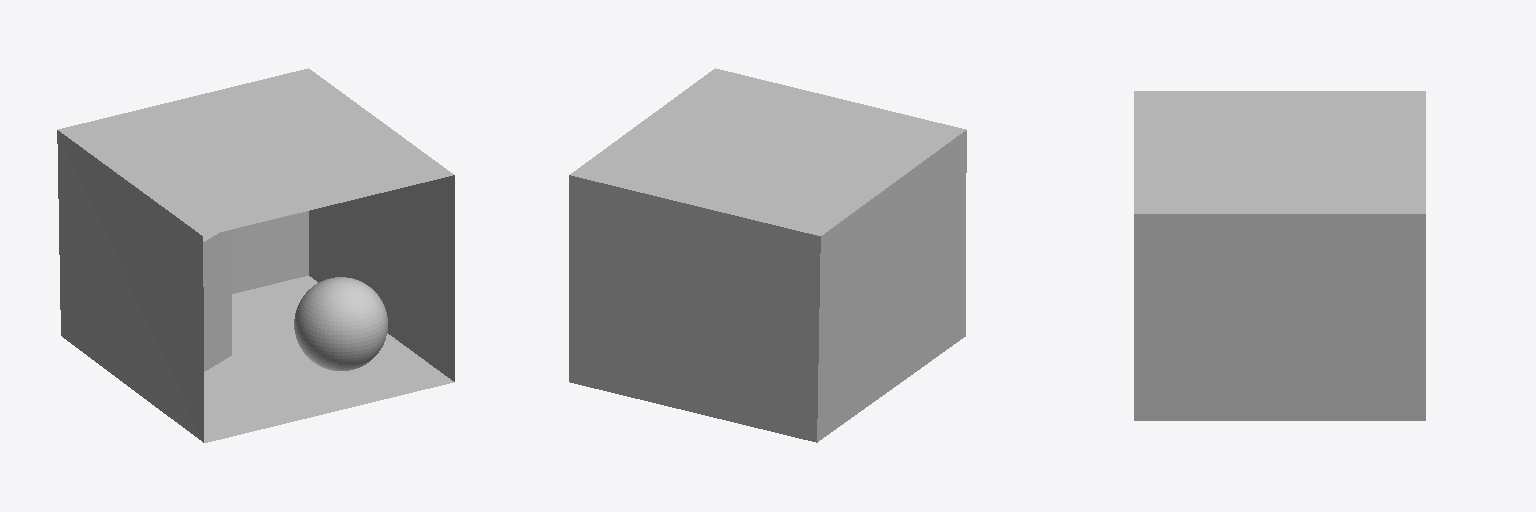
The model's file is cbox_medium.obj.
3 views of the same model, side by side, from view 1: azimuth 30°, elevation 25°; view 2: azimuth 150°, elevation 25°; view 3: azimuth 270°, elevation 25° (orthographic).
Visible parts, largest first — view 1: ceiling, leftWall, rightWall, floor, rightSphere, backWall, leftBox; view 2: backWall, ceiling, leftWall; view 3: rightWall, ceiling.
Part boxes in pixels (bbox=[...]): ceiling: bbox=[58, 68, 453, 235]; leftWall: bbox=[57, 130, 203, 442]; rightWall: bbox=[309, 175, 454, 381]; floor: bbox=[204, 276, 453, 442]; rightSphere: bbox=[294, 277, 387, 370]; backWall: bbox=[232, 211, 308, 293]; leftBox: bbox=[203, 230, 231, 371]; backWall: bbox=[569, 175, 820, 442]; ceiling: bbox=[570, 68, 965, 235]; leftWall: bbox=[817, 130, 966, 442]; rightWall: bbox=[1134, 214, 1425, 420]; ceiling: bbox=[1134, 91, 1425, 213].
Size of the model in its own units: 2.02 by 1.59 by 2.03.